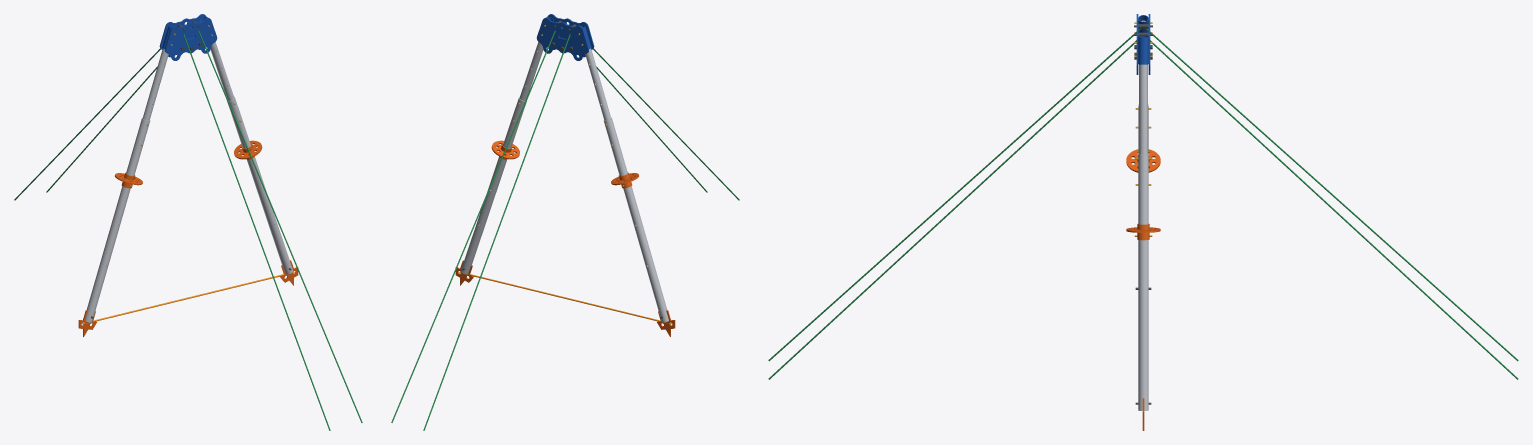
File: bipode_armado.glb
The picture shows the model from 3 angles, left to right: view 1: azimuth 30°, elevation 25°; view 2: azimuth 150°, elevation 25°; view 3: azimuth 270°, elevation 25°; orthographic projection. The views are drawn at different scales.
Parts seen in each view (by area): view 1: pata_inf_izq, pata_inf_der, placa_trasera, viento_atras_D1, viento_atras_D2, pata_sup_izq, pata_sup_der, maniota, viento_adelante_D1, anillo_der; view 2: pata_inf_izq, pata_inf_der, placa_delantera, viento_adelante_D1, viento_adelante_D2, pata_sup_izq, pata_sup_der, maniota, viento_atras_D1, anillo_der; view 3: pata_inf_der, viento_adelante_D2, viento_atras_D2, viento_adelante_D1, viento_atras_D1, pata_sup_der.
Part boxes in pixels (<box>): pata_inf_izq: <box>85,118,150,322</box>; pata_inf_der: <box>226,96,292,274</box>; placa_trasera: <box>165,17,217,60</box>; viento_atras_D1: <box>183,34,330,430</box>; viento_atras_D2: <box>198,30,362,422</box>; pata_sup_izq: <box>117,48,168,225</box>; pata_sup_der: <box>210,42,263,190</box>; maniota: <box>82,271,294,324</box>; viento_adelante_D1: <box>14,48,160,200</box>; anillo_der: <box>234,140,262,159</box>; pata_inf_izq: <box>603,118,668,322</box>; pata_inf_der: <box>461,96,527,274</box>; placa_delantera: <box>536,17,588,60</box>; viento_adelante_D1: <box>423,34,570,430</box>; viento_adelante_D2: <box>391,30,555,422</box>; pata_sup_izq: <box>585,48,636,225</box>; pata_sup_der: <box>490,42,543,190</box>; maniota: <box>459,271,671,324</box>; viento_atras_D1: <box>593,48,739,200</box>; anillo_der: <box>491,140,519,159</box>; pata_inf_der: <box>1138,153,1148,410</box>; viento_adelante_D2: <box>1150,40,1518,379</box>; viento_atras_D2: <box>768,40,1136,379</box>; viento_adelante_D1: <box>1145,28,1518,361</box>; viento_atras_D1: <box>768,28,1141,361</box>; pata_sup_der: <box>1139,64,1147,154</box>.
Bounding box in the file's own units: 1744 × 2220 × 4355.
